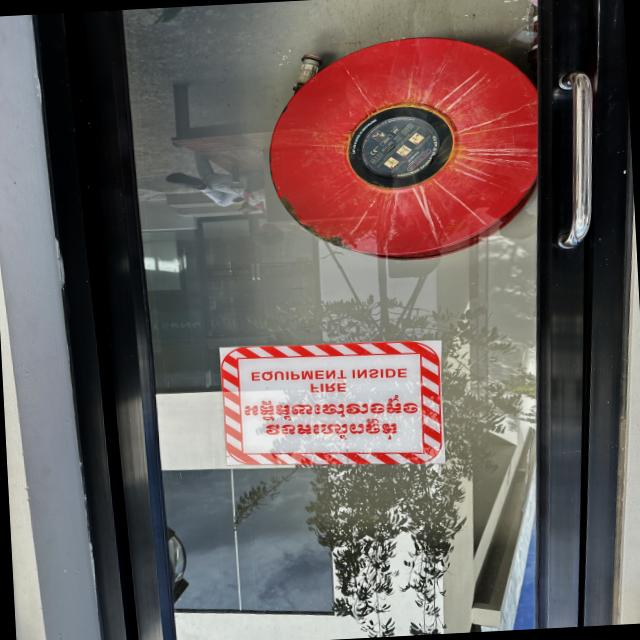Yolov11_80vkh: (241, 390, 422, 420), (258, 415, 405, 442)
